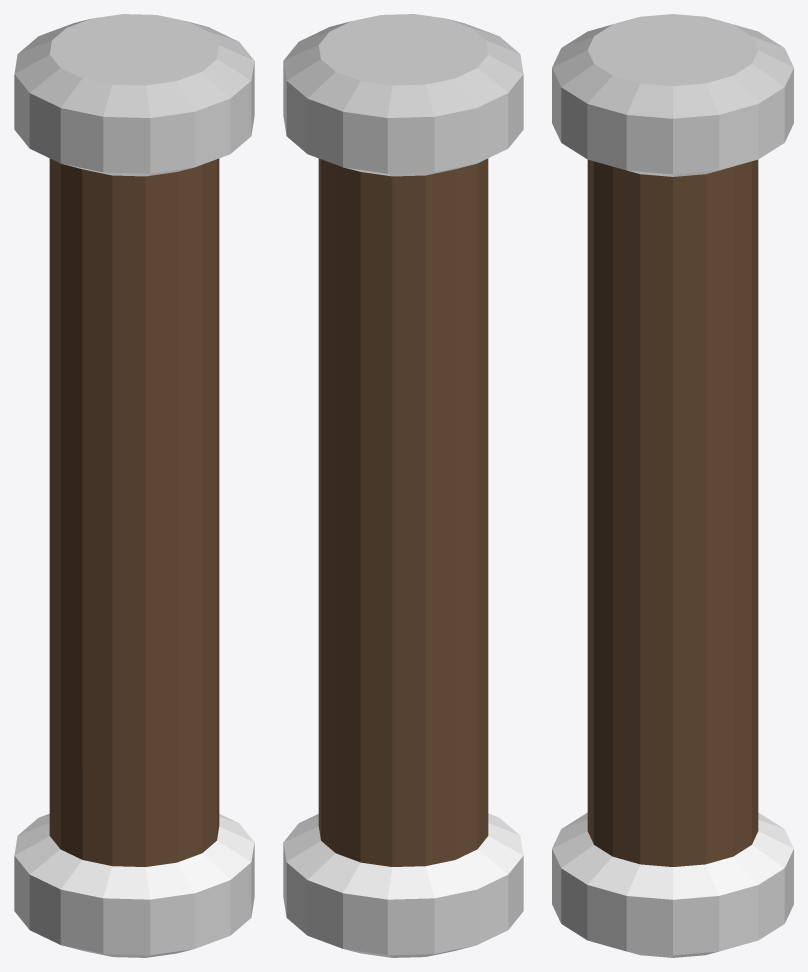
The model's file is pillar1.fbx.
The picture shows the model from 3 angles, left to right: view 1: azimuth 30°, elevation 25°; view 2: azimuth 150°, elevation 25°; view 3: azimuth 270°, elevation 25°; orthographic projection.
Visible parts, largest first — view 1: Cylinder; view 2: Cylinder; view 3: Cylinder.
Boxes of the visible parts, <box> form: Cylinder: <box>14,14,254,957</box>; Cylinder: <box>283,14,523,957</box>; Cylinder: <box>552,14,793,957</box>.
Bounding box in the file's own units: 283 × 1127 × 283.
Materials: 1 (1 with a texture image).
